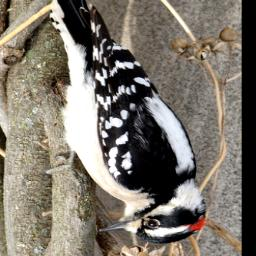Woodpecker: (47, 0, 206, 245)
